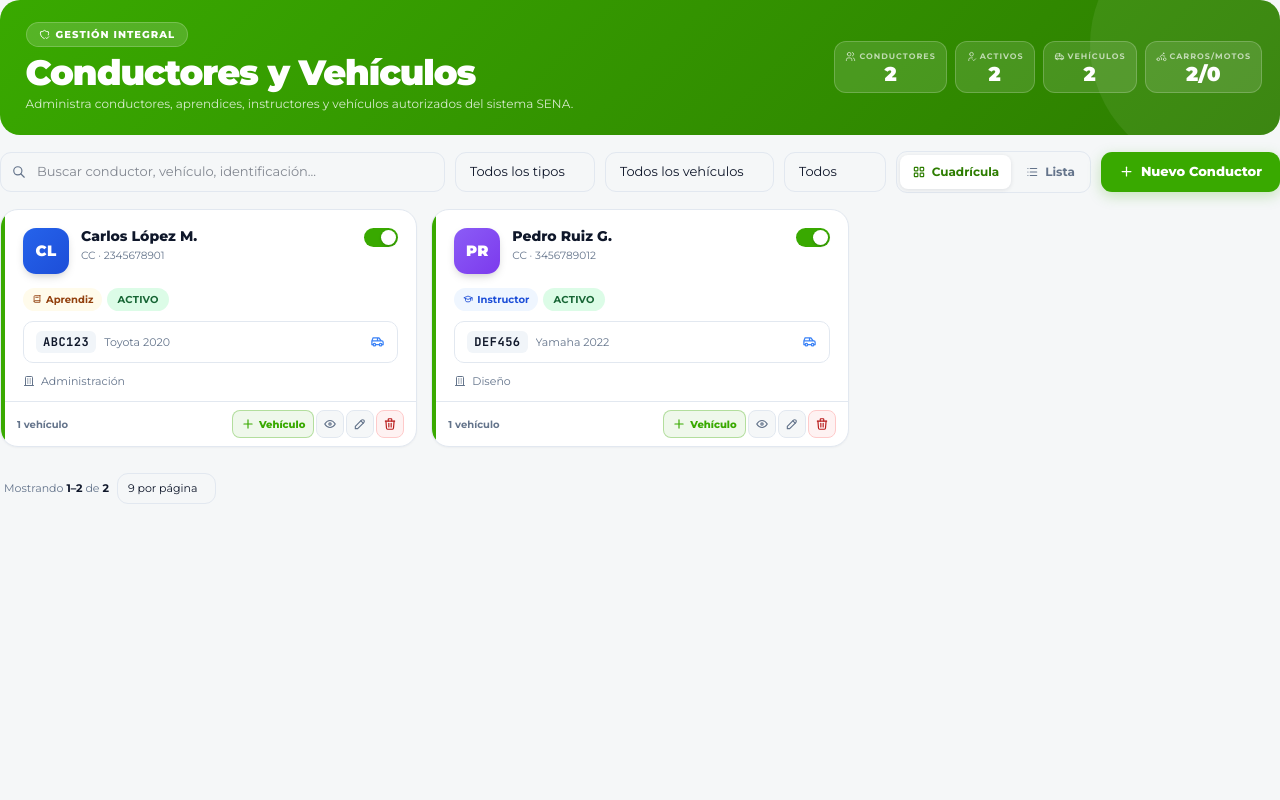
it: features/conductores › no elimina al conductor si se cancela la confirmación
This screenshot has width=1280, height=800.
Check: the text "Carlos López M." is shown, box [81, 227, 197, 245]
Step 1. Click the button named "Eliminar Carlos López M." → (390, 424), box [376, 410, 404, 438]
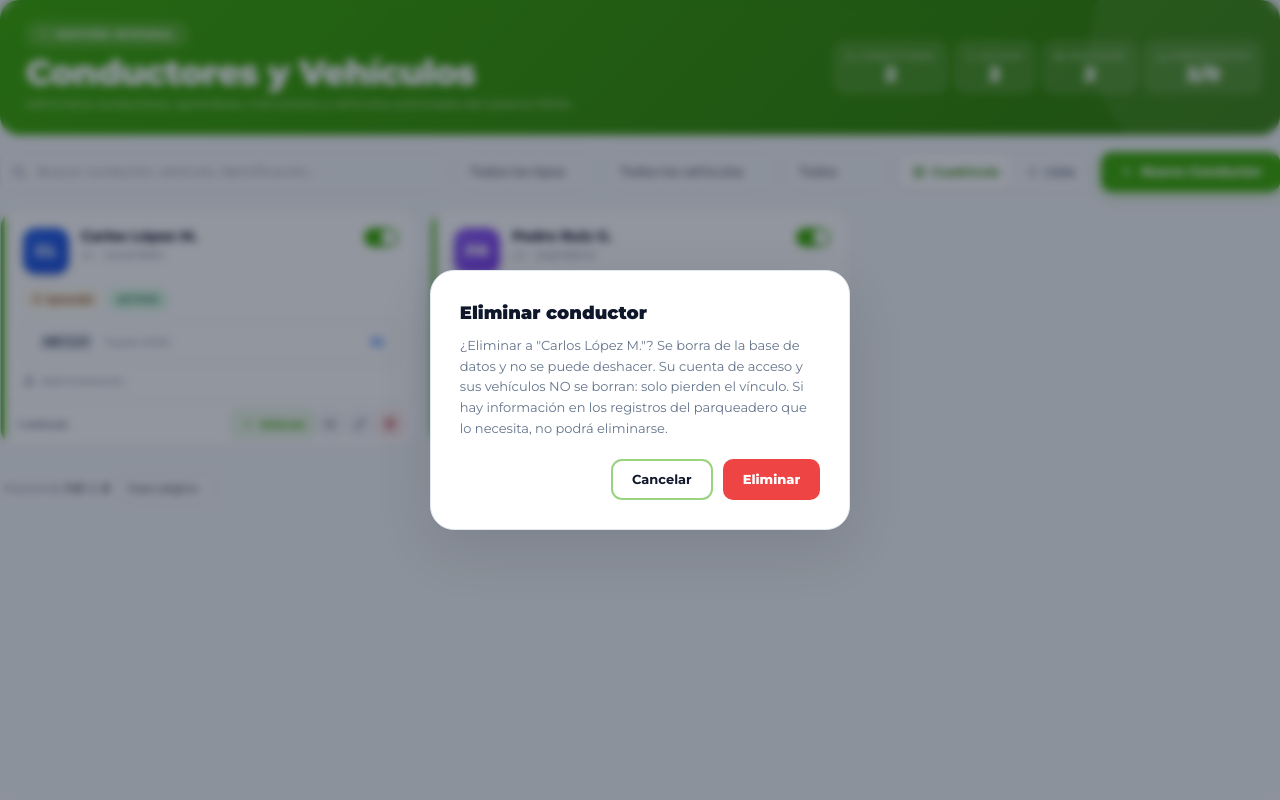
Step 2. Click the button "Cancelar" → (662, 479), box [611, 459, 713, 500]
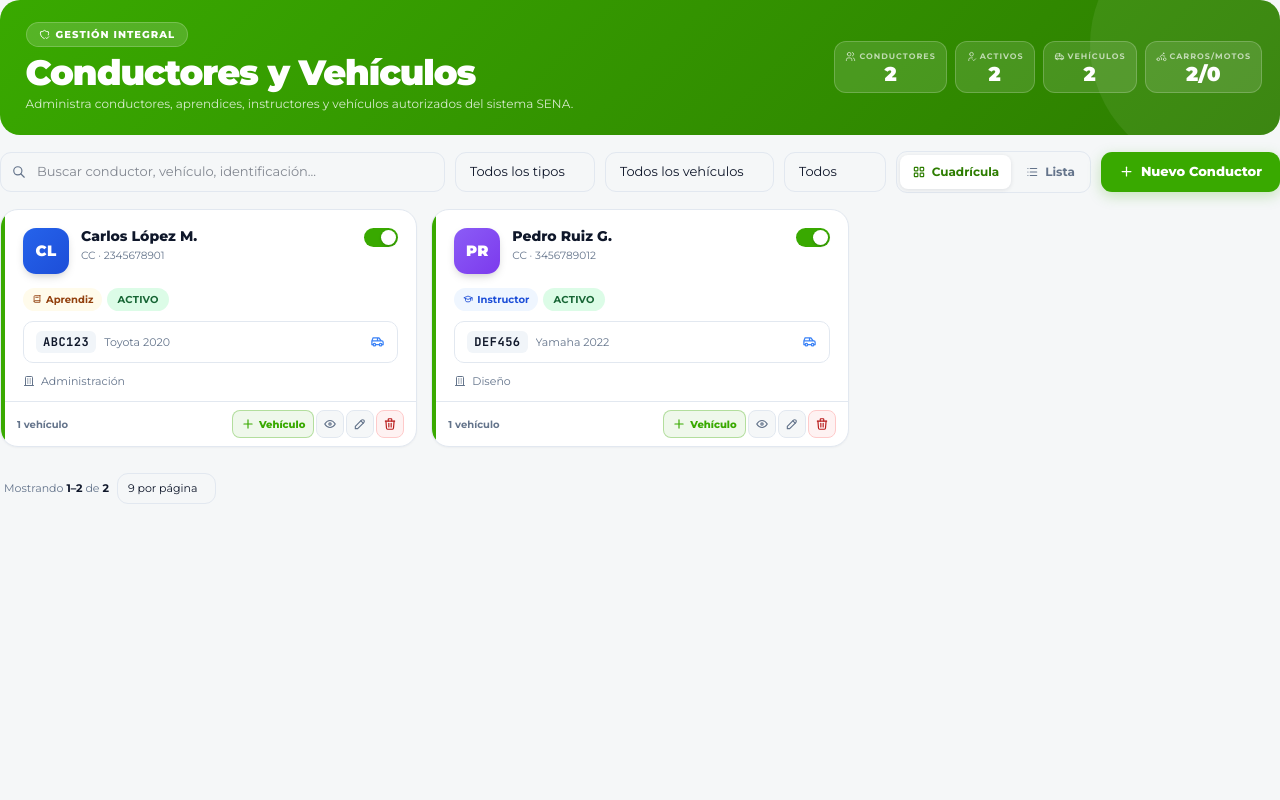
Check: the text "Carlos López M." is shown, box [81, 227, 197, 245]
Check: no headings "Eliminar conductor" are shown
